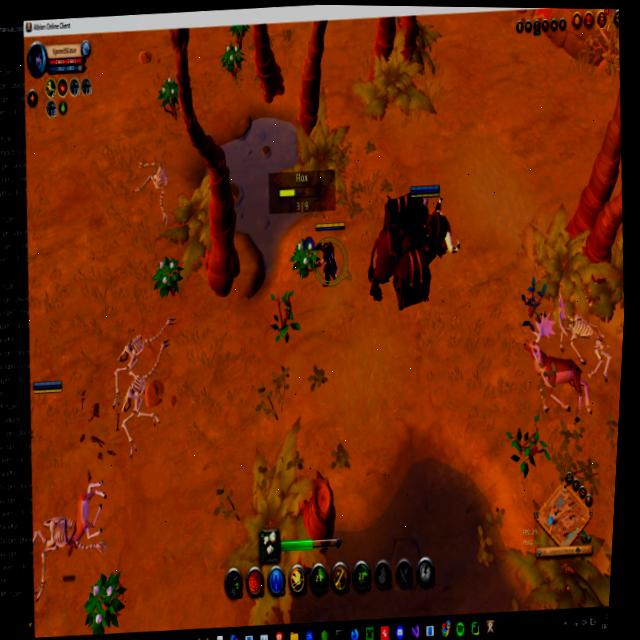hide: (82, 568, 127, 634), (151, 254, 183, 300), (288, 234, 318, 281), (220, 42, 245, 77), (156, 76, 180, 111)
mob: (515, 305, 602, 427)
red: (355, 177, 470, 315), (311, 217, 348, 287), (30, 377, 64, 397)
